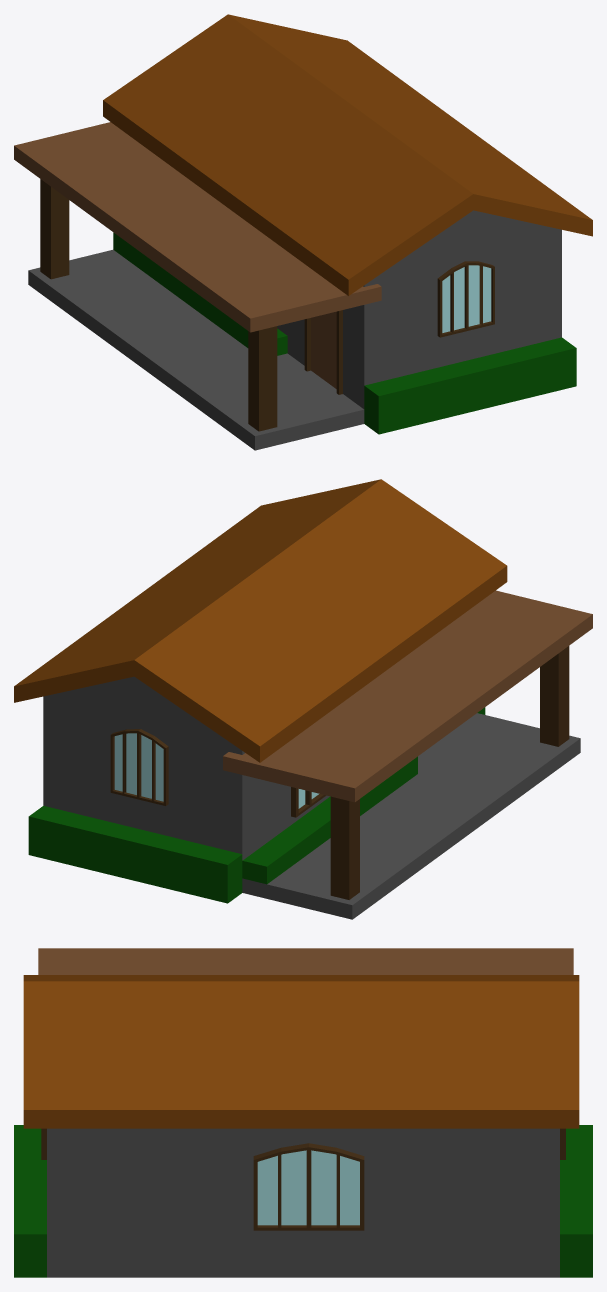
Rendered from Vivienda_Alt2.glb.
3 views of the same model, one above another, from view 1: azimuth 30°, elevation 25°; view 2: azimuth 150°, elevation 25°; view 3: azimuth 270°, elevation 25° (orthographic). The views are drawn at different scales.
Parts seen in each view (by area): view 1: Cube.003; view 2: Cube.003; view 3: Cube.003.
Part boxes in pixels (left/top/right/bottom): Cube.003: left=14, top=14, right=592, bottom=450; Cube.003: left=14, top=479, right=592, bottom=919; Cube.003: left=14, top=948, right=592, bottom=1277.
Size of the model in its own units: 7.77 by 4.72 by 10.24.
